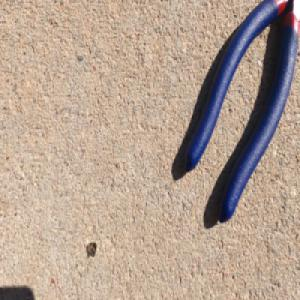Pliers: (182, 0, 300, 225)
